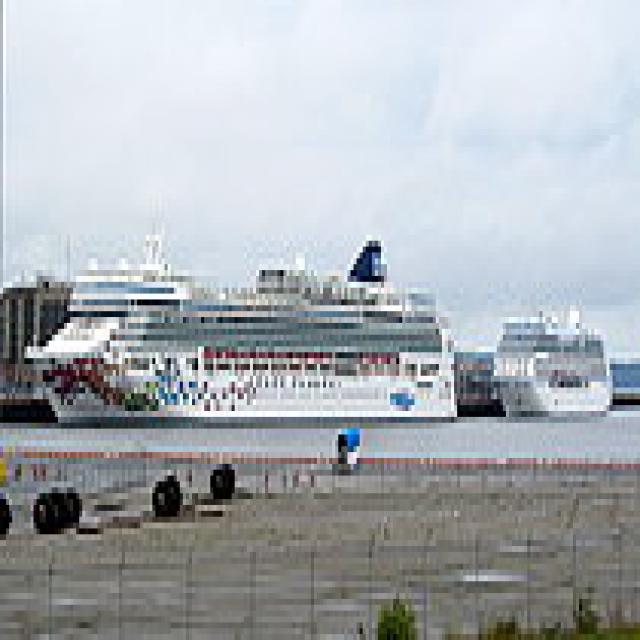Ship: (17, 219, 468, 436), (492, 295, 620, 430)
